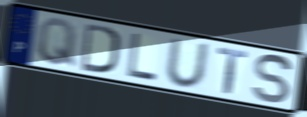D: (80, 21, 121, 76)
L: (126, 31, 159, 83)
Q: (36, 17, 77, 70)
S: (252, 52, 295, 106)
T: (216, 46, 248, 96)
U: (164, 37, 211, 91)
